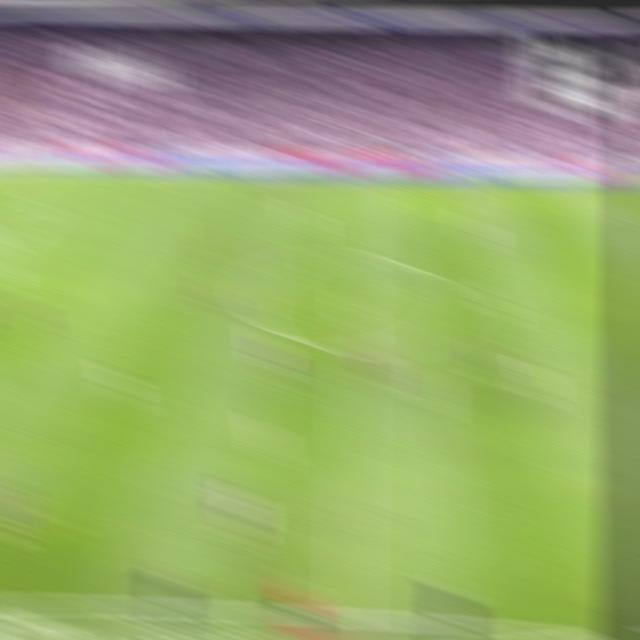bigarea_top_inner: (28, 196, 54, 216)
halfcircle_bottom: (338, 336, 367, 364)
halfcircle_top: (339, 240, 370, 270)
midline_bottom_intersection: (330, 593, 367, 631)
midline_top_intersection: (343, 170, 370, 190)
